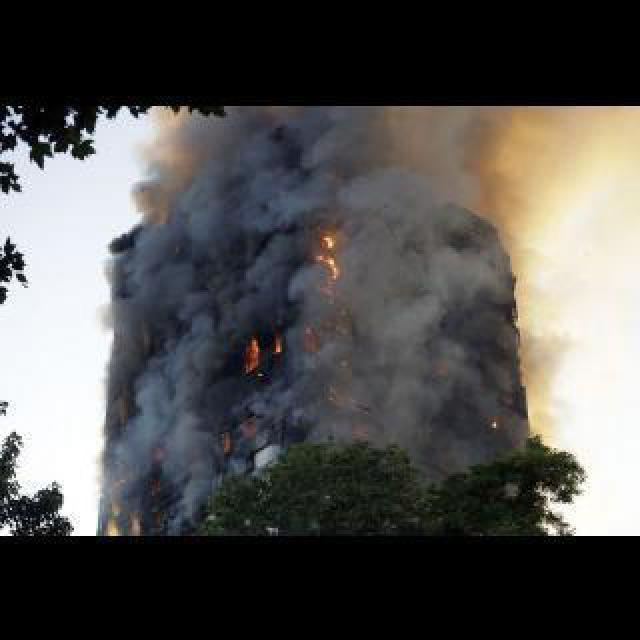Fire: (306, 220, 346, 296), (230, 336, 284, 378)
Smoke: (344, 108, 576, 458), (76, 130, 230, 532)
